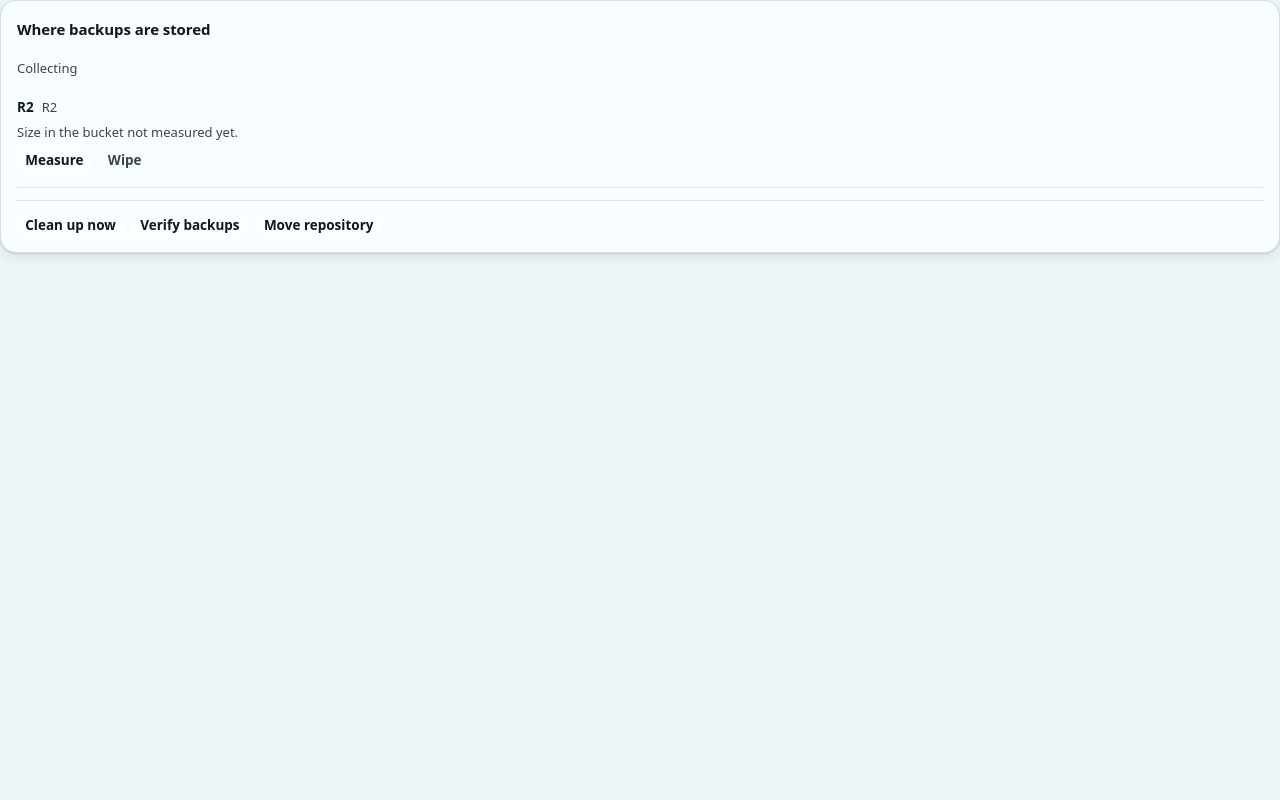
Test: BackupStoragePanel › runs cleanup and measures a remote target on request
The width and height of the screenshot is (1280, 800).
Click the button "Clean up now".
click(70, 226)  # box [17,213,124,240]
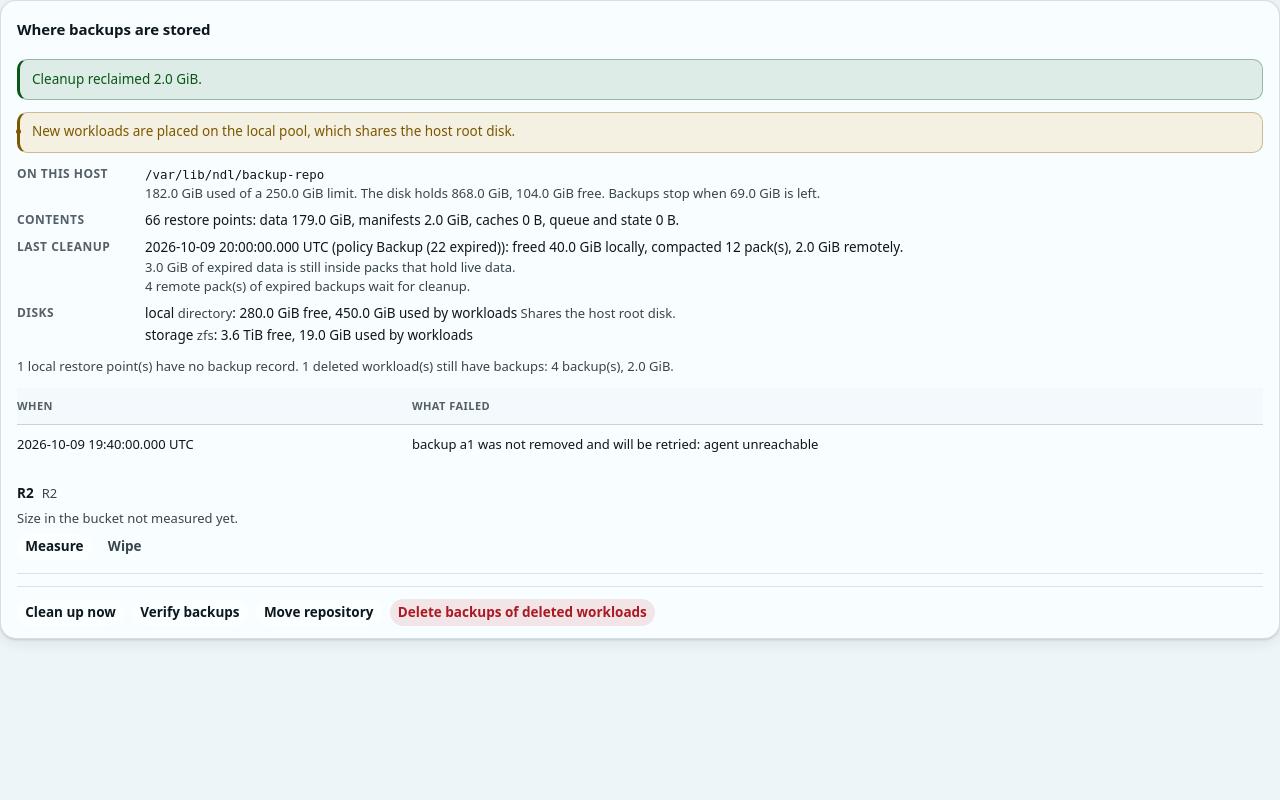
expect the text "Cleanup reclaimed 2.0 GiB." is shown: met, box [17,59,1263,100]
Click the button "Measure".
click(54, 547)  # box [17,534,92,561]
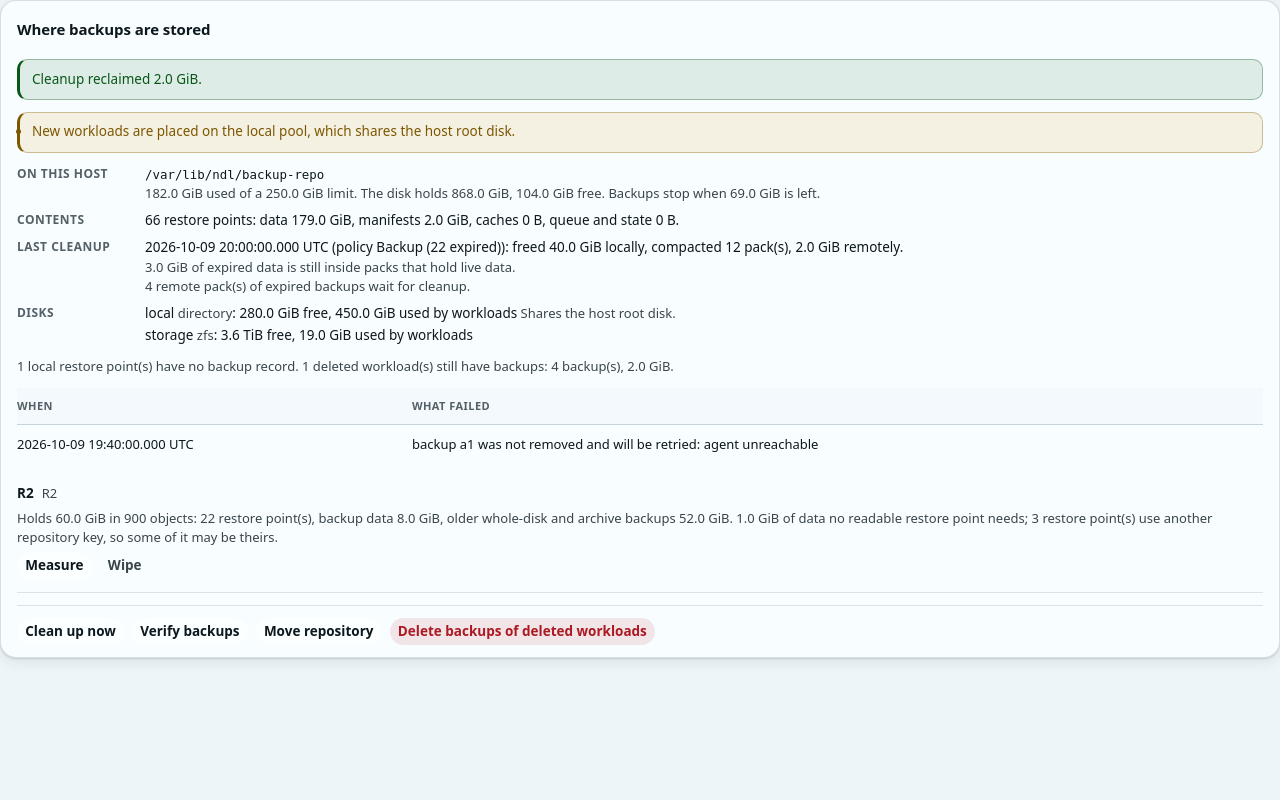
expect the text "older whole-disk and archive backups 52.0 GiB" is shown: met, box [440,509,729,527]
expect the text "3 restore point(s) use another repository key" is shown: met, box [17,509,1212,546]
